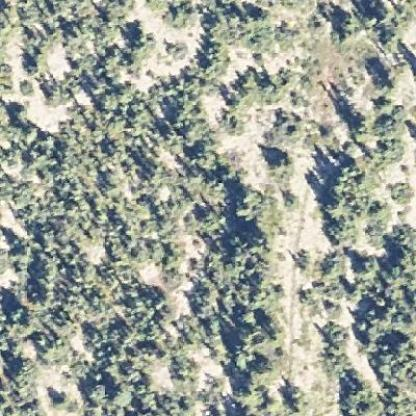tree-top: (83, 380, 105, 402), (106, 384, 127, 406), (337, 23, 359, 44), (348, 119, 368, 142), (234, 186, 254, 207), (269, 150, 288, 172), (129, 28, 151, 47), (43, 83, 61, 105), (331, 170, 348, 190)
